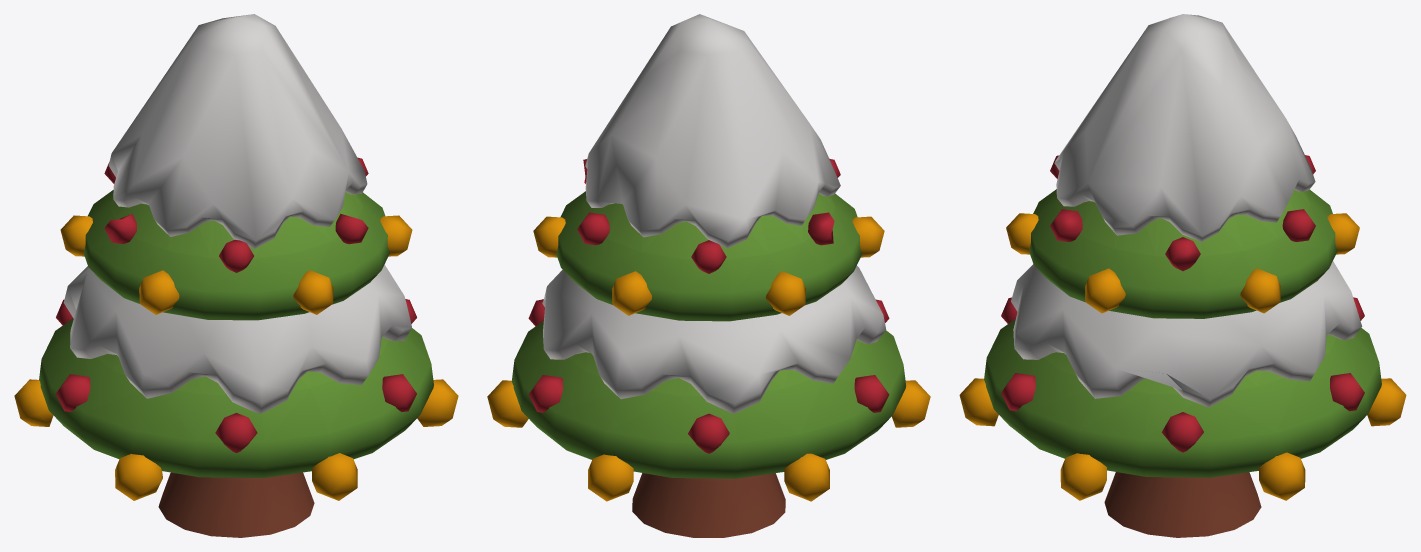
Rendered from sw_xmas_tree.glb.
3 views of the same model, side by side, from view 1: azimuth 30°, elevation 25°; view 2: azimuth 150°, elevation 25°; view 3: azimuth 270°, elevation 25° (orthographic).
Visible parts, largest first — view 1: sw_xmas_tree; view 2: sw_xmas_tree; view 3: sw_xmas_tree.
Part boxes in pixels (x1=…): sw_xmas_tree: x1=14, y1=14, x2=458, y2=537; sw_xmas_tree: x1=487, y1=14, x2=930, y2=537; sw_xmas_tree: x1=959, y1=14, x2=1406, y2=537.
Size of the model in its own units: 2.55 by 3.4 by 2.81.
